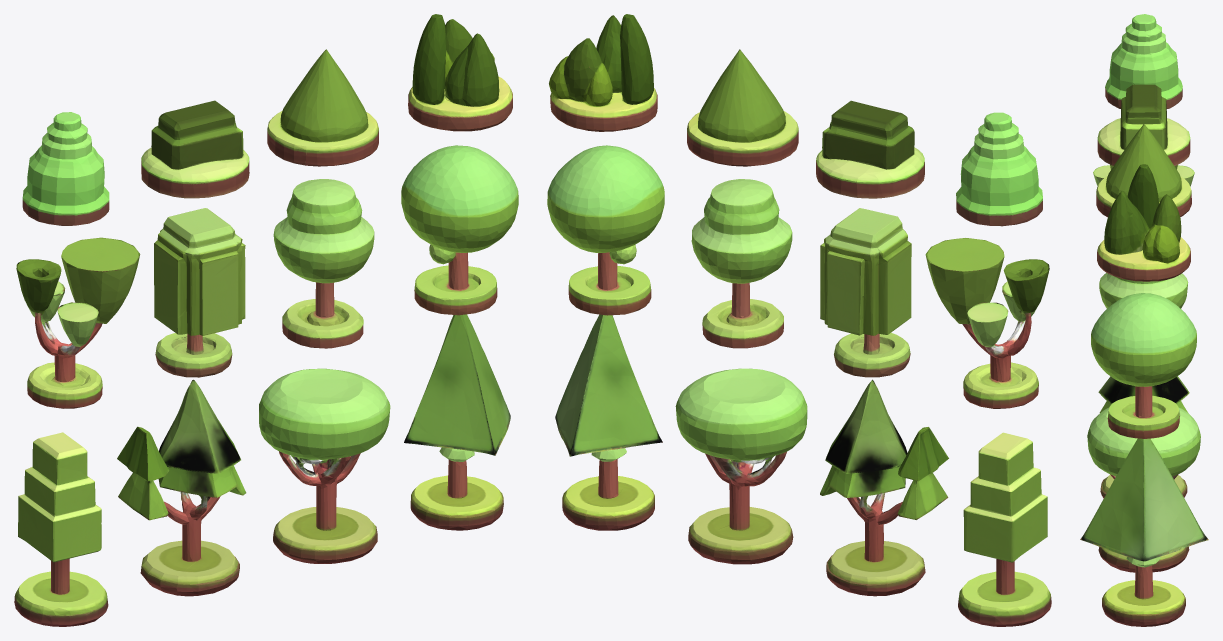
Rendered from sample.glb.
3 views of the same model, side by side, from view 1: azimuth 30°, elevation 25°; view 2: azimuth 150°, elevation 25°; view 3: azimuth 270°, elevation 25° (orthographic). The views are drawn at different scales.
Parts seen in each view (by area): view 1: world; view 2: world; view 3: world.
Boxes of the visible parts, x1=… form: world: x1=14, y1=14, x2=518, y2=626; world: x1=547, y1=14, x2=1051, y2=626; world: x1=1080, y1=14, x2=1208, y2=626.
Bounding box in the file's own units: 1 × 0.983 × 0.2622.
1 material, 1 textured.
